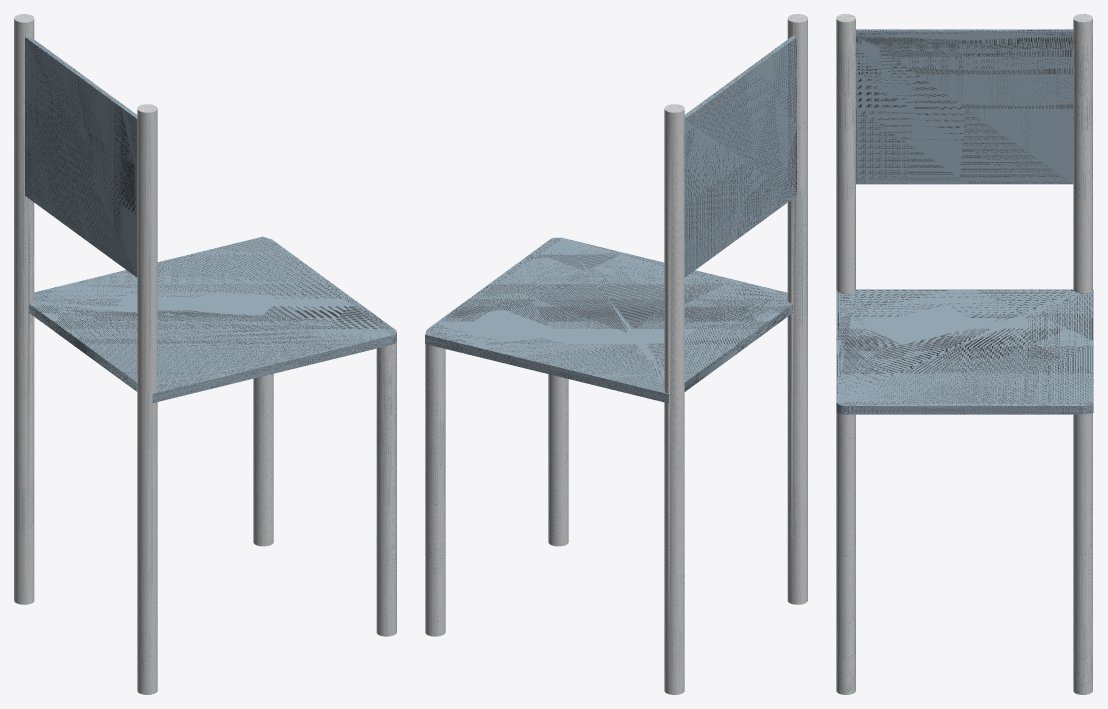
Rendered from chair.fbx.
3 views of the same model, side by side, from view 1: azimuth 30°, elevation 25°; view 2: azimuth 150°, elevation 25°; view 3: azimuth 270°, elevation 25° (orthographic). The views are drawn at different scales.
Visible parts, largest first — view 1: Model; view 2: Model; view 3: Model.
Boxes of the visible parts, x1,y1,x2,y2 form: Model: (14,14,396,694); Model: (425,14,807,694); Model: (836,14,1093,694).
Size of the model in its own units: 0.5818 by 1.26 by 0.5246.
